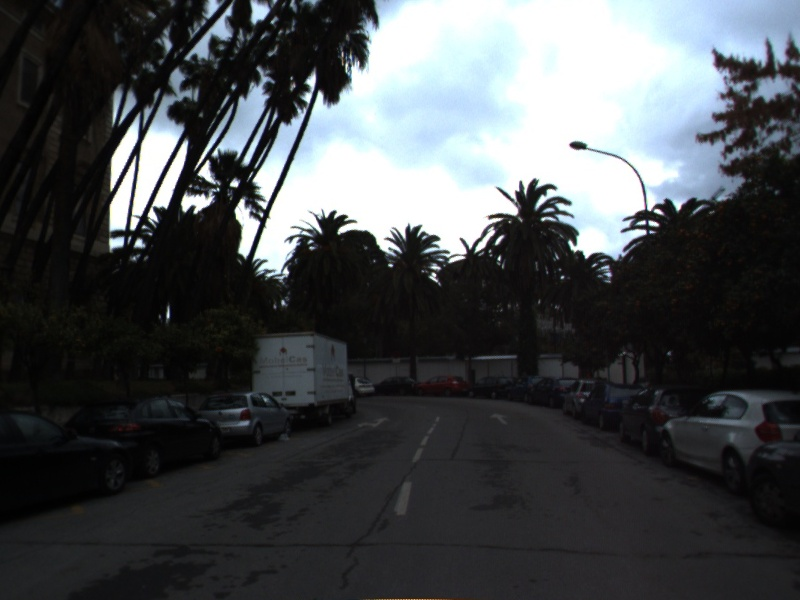STRAIGHT: (488, 411, 510, 426)
STRAIGHT_LEFT: (355, 415, 392, 429)
